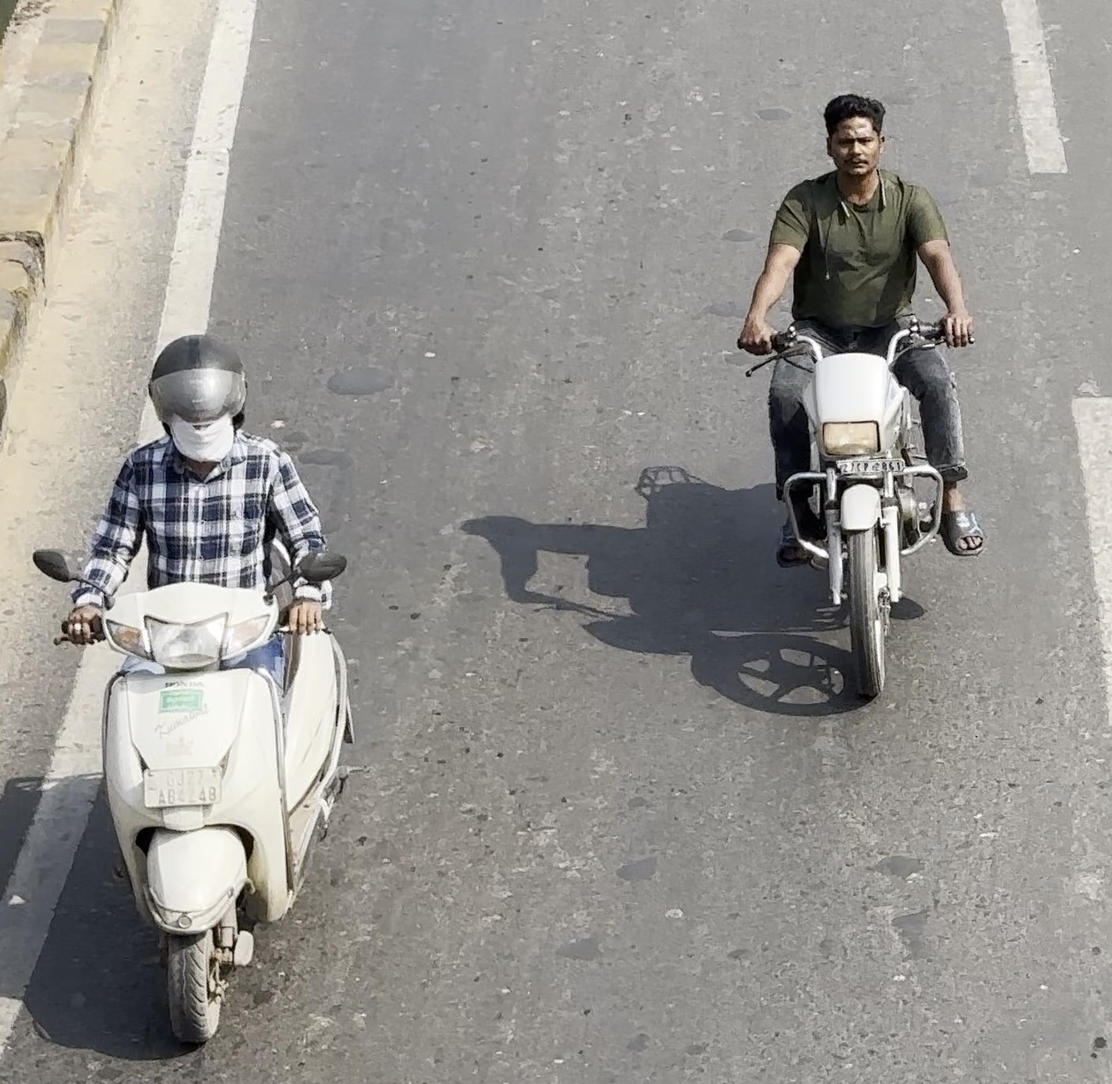BikeWithRider: (28, 329, 372, 1054), (720, 83, 999, 713)
Helmet: (140, 331, 263, 469)
NoHelmet: (807, 87, 898, 188)
